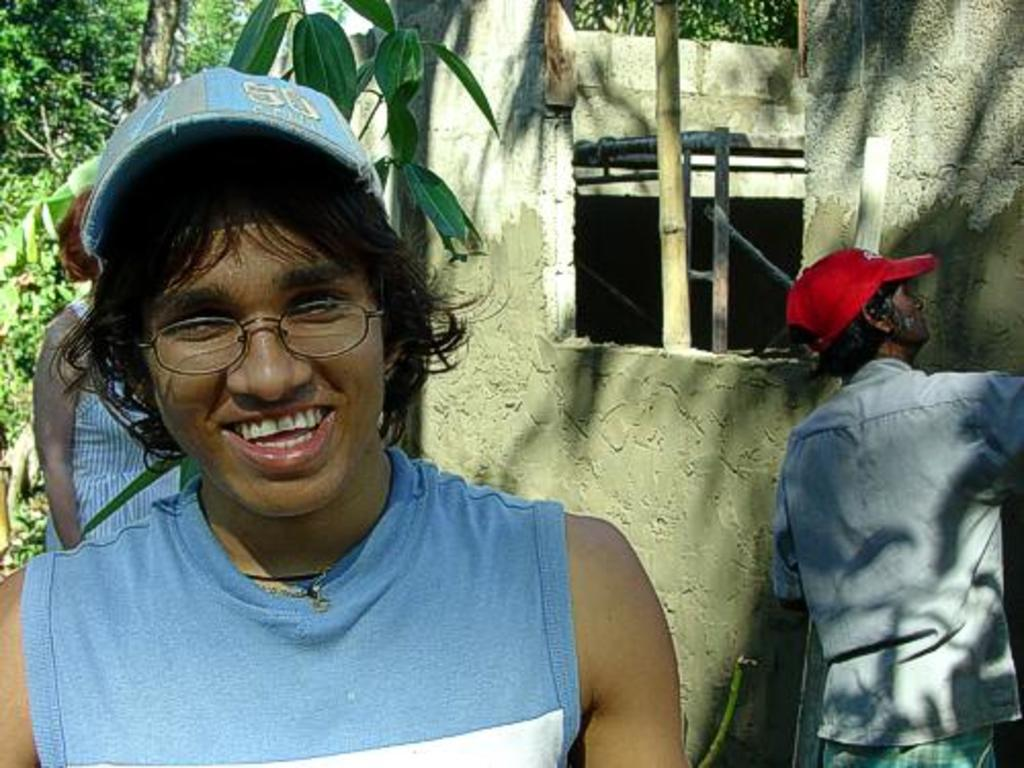Hat: (82, 67, 384, 258), (788, 242, 933, 344)
